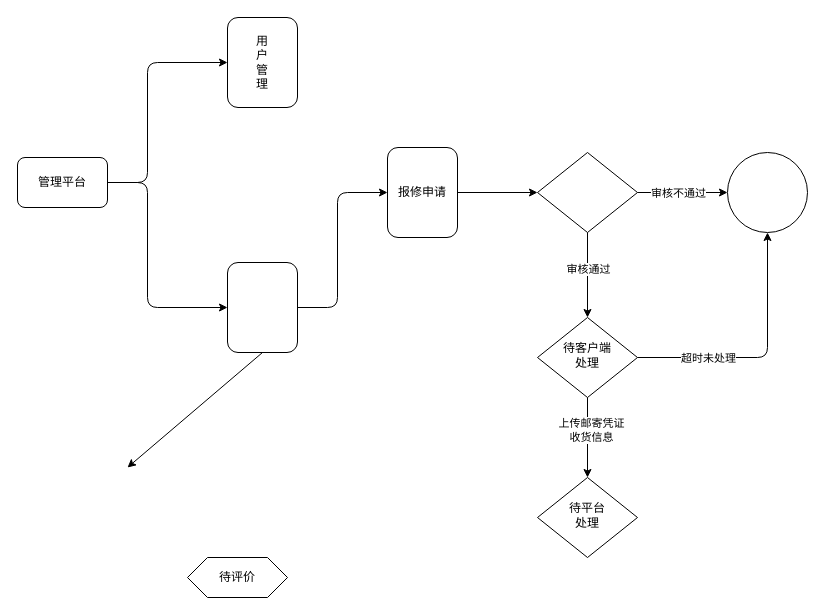
Some shapes in this 825 by 615 pixel diagram are drawn without their labels. Each missing label, with the centre of its shape:
审核: (x=587, y=192)
报 修 管 理: (x=262, y=307)
订单完成: (x=767, y=192)
